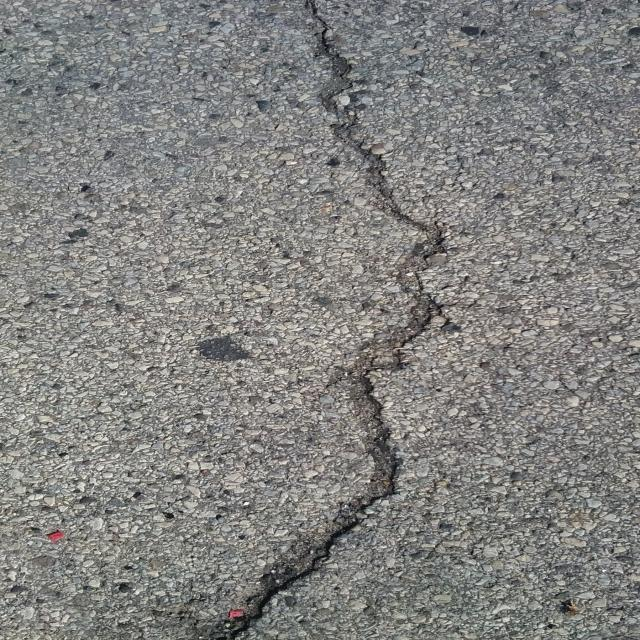Crack: (195, 0, 452, 640)
